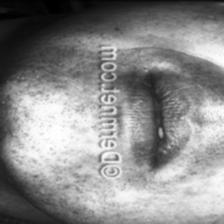Non-Cancerous Skin Condition: (32, 37, 99, 201), (122, 166, 210, 218)
